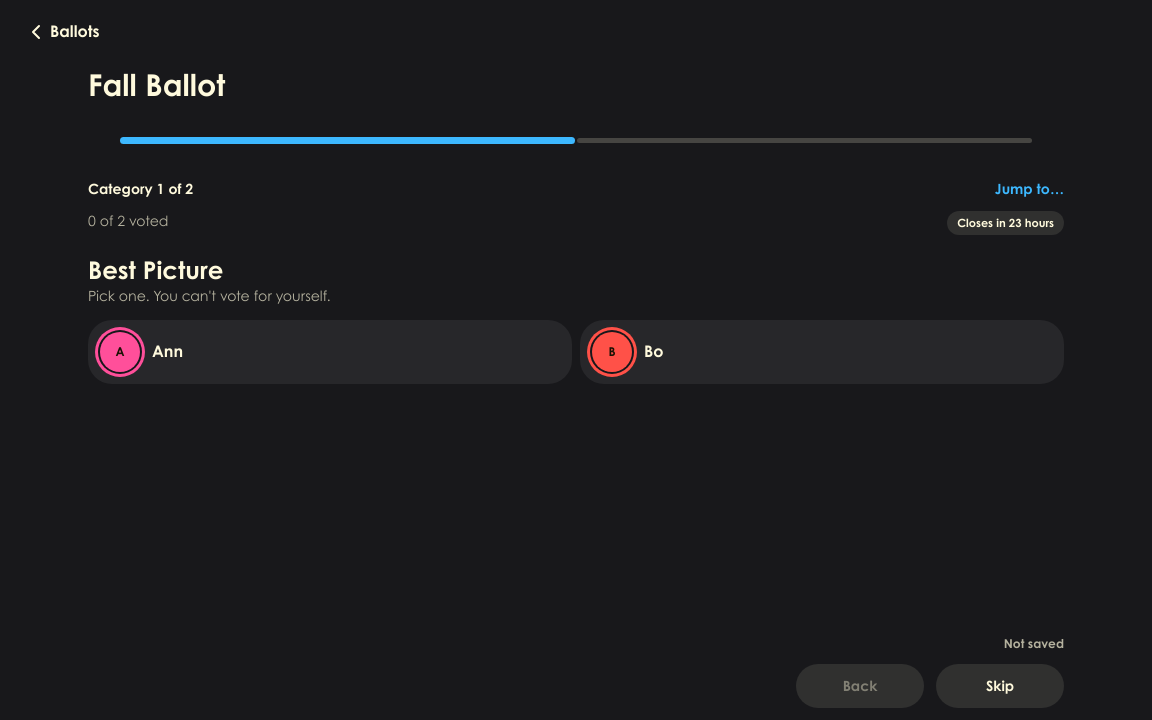
Test: VotePage behavior › rapid taps save in tap order
Expected: the element "Best Picture" is shown, [88,255,1064,384]
Click the radio button labelled "A Ann".
click(120, 352)  # box [88,320,572,384]
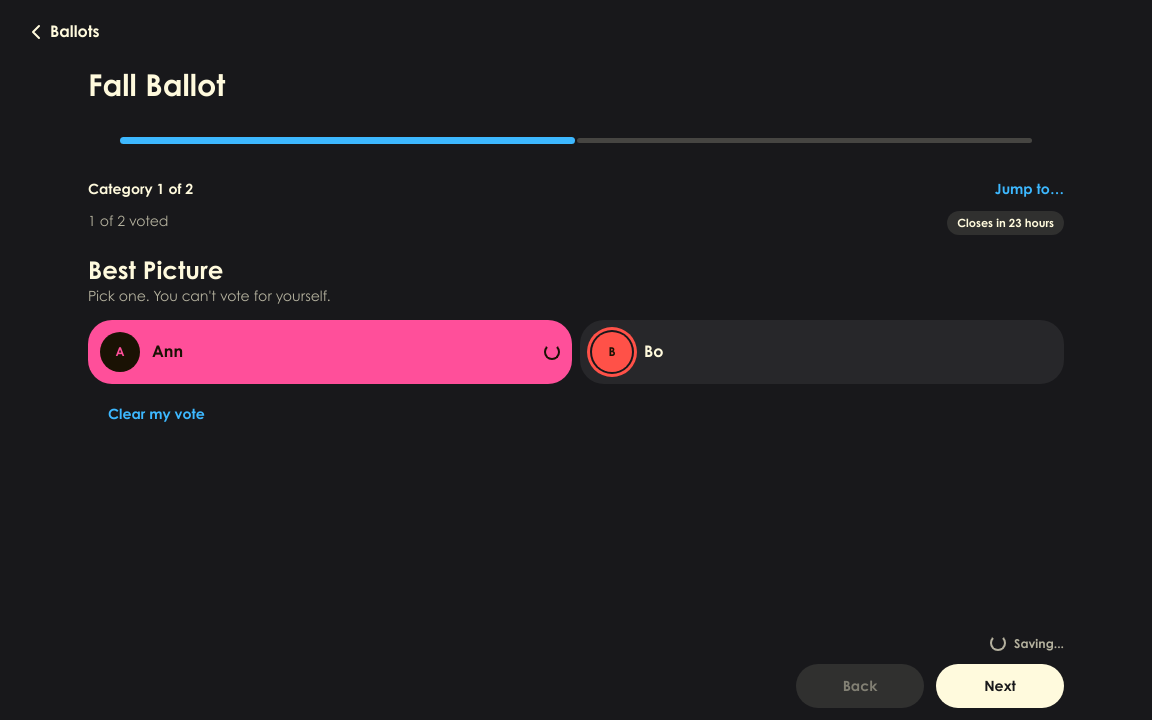
Click the radio button labelled "B Bo".
click(612, 352)  # box [580,320,1064,384]
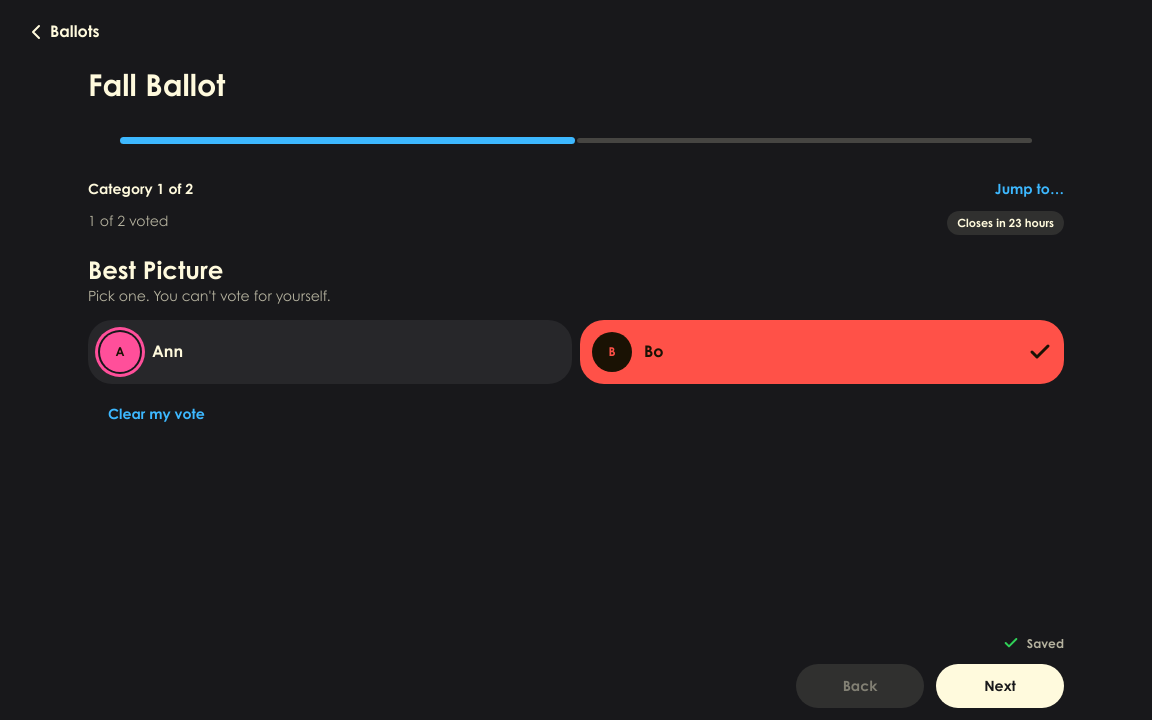
Now the text "Saving" is gone
